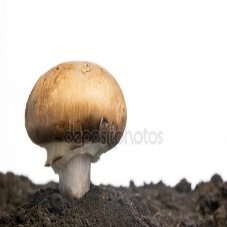mushroom: (25, 60, 128, 200)
